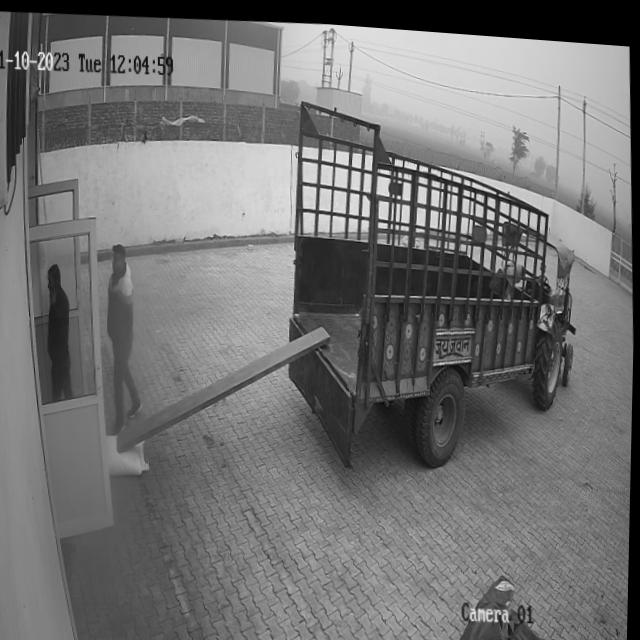sack: (106, 429, 151, 476)
